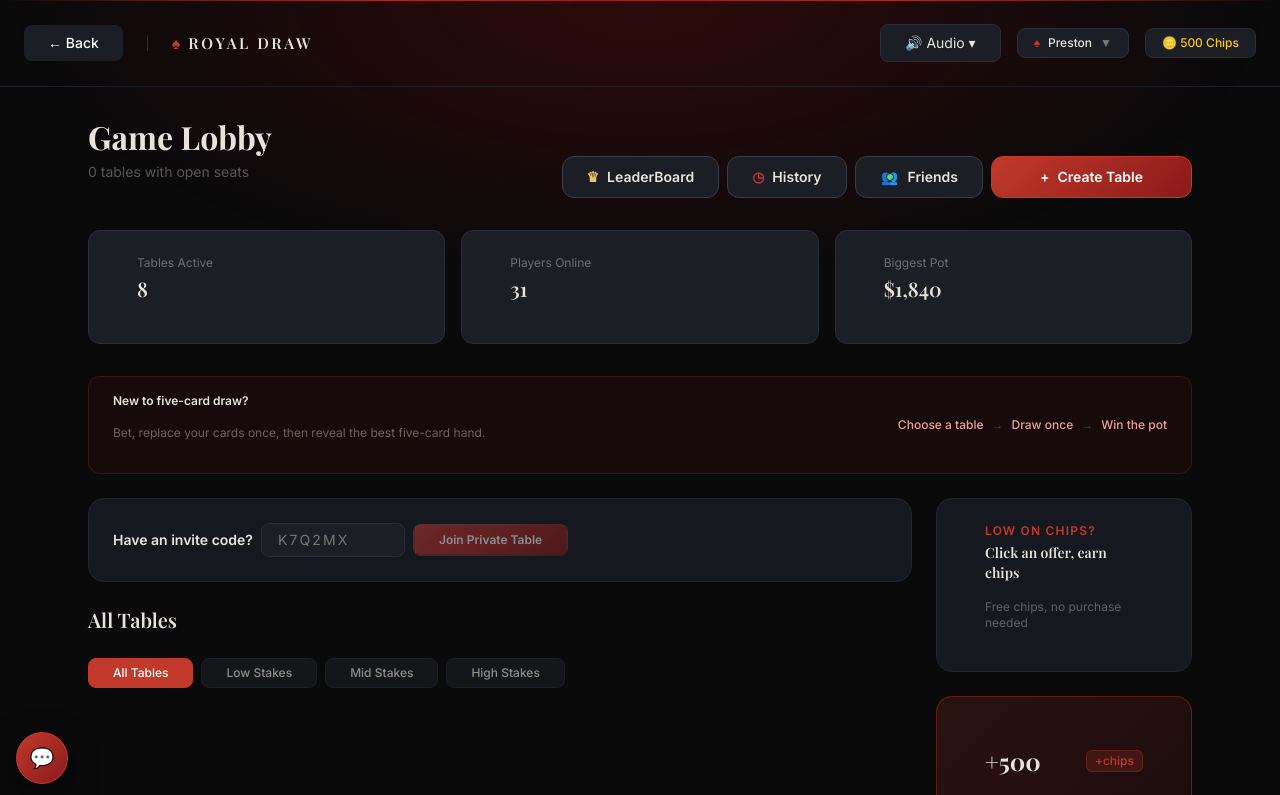
it: Help in the name menu: chat with an admin (P18) › closing the chat goes back to just the lobby
Click the button "♠ Preston ▼" at (1073, 43), box [1017,28,1129,58]
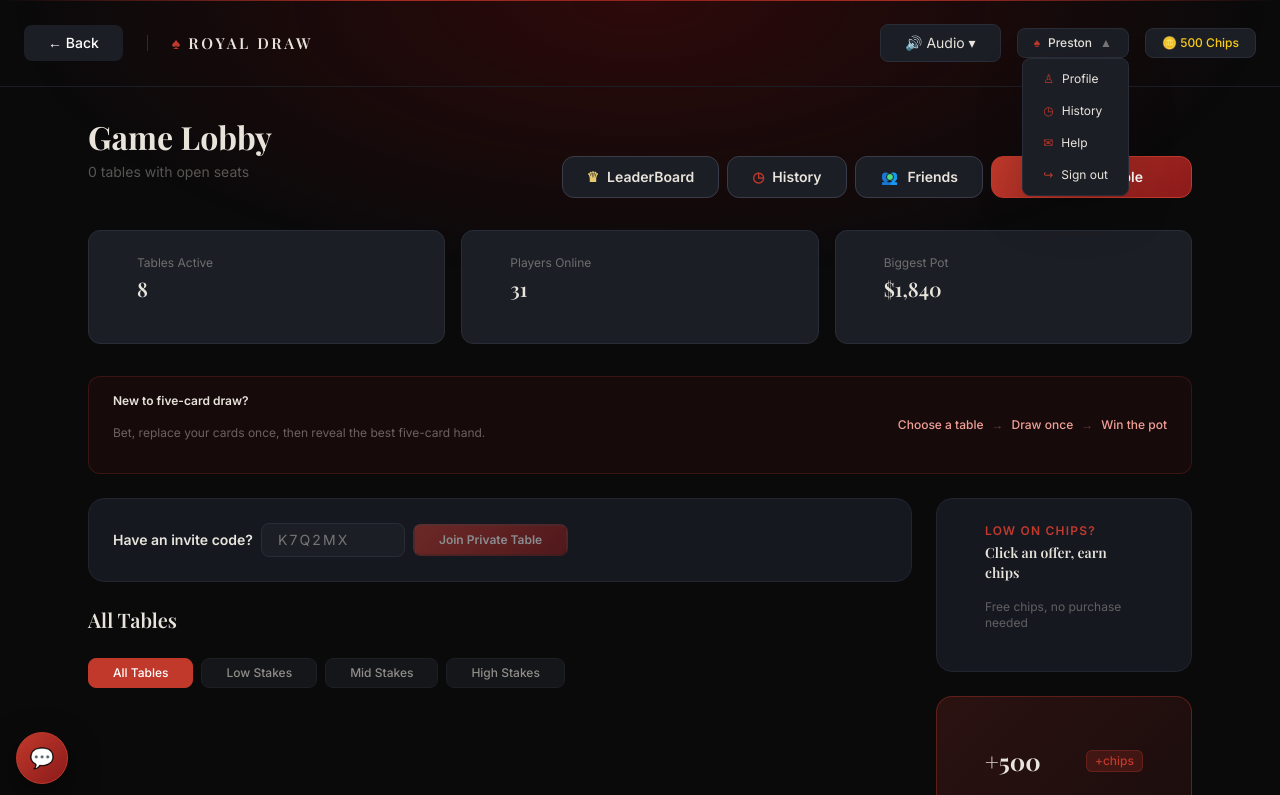
Click the menu item "✉ Help" at (1076, 143), box [1027,127,1124,159]
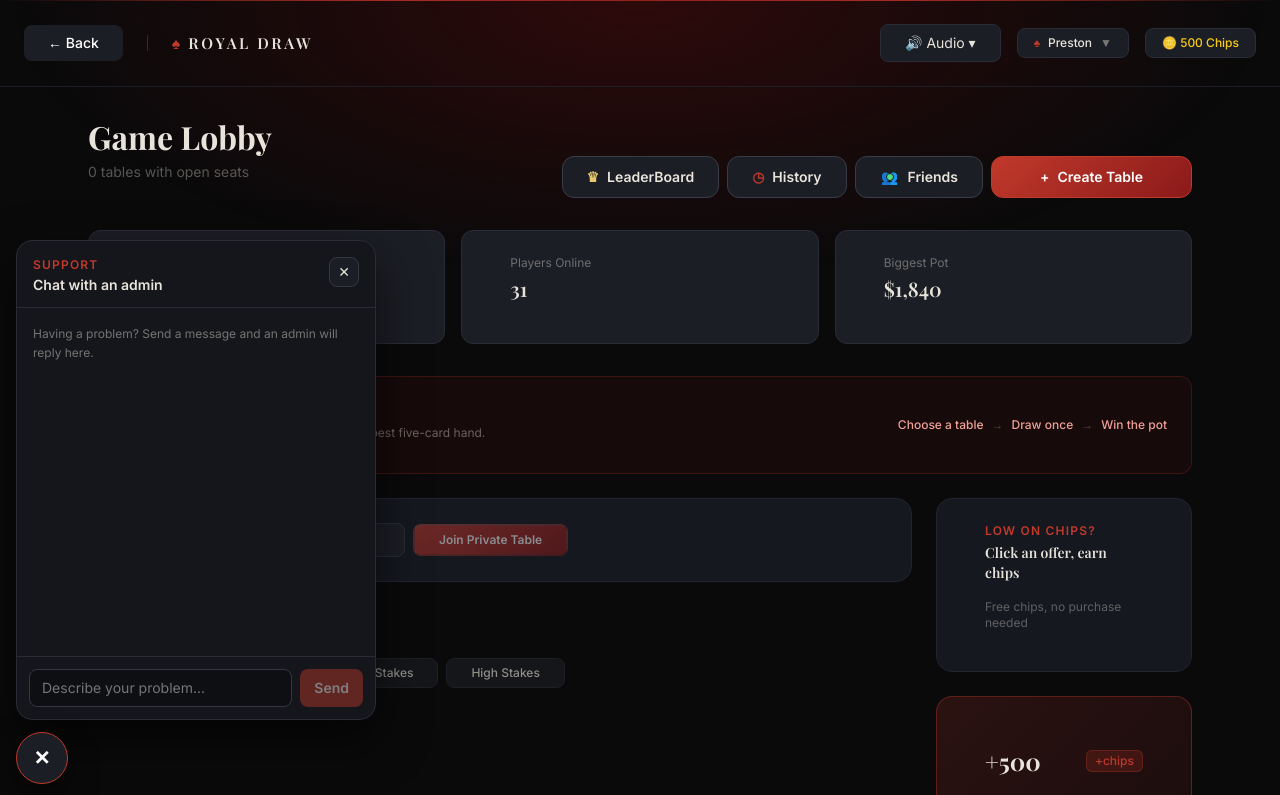
Click the button named "Close chat" at (344, 272), box [329,257,359,287]
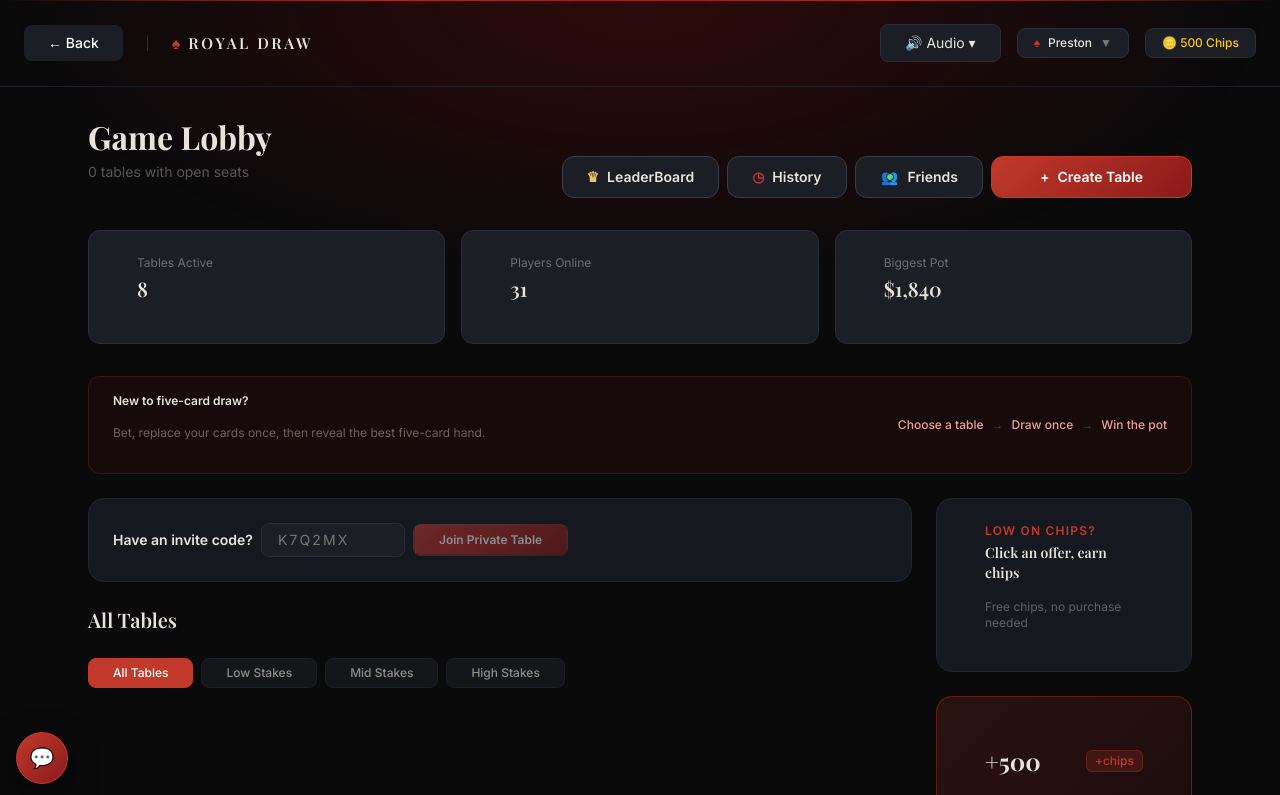
Expected: the text "Chat with an admin" is gone
